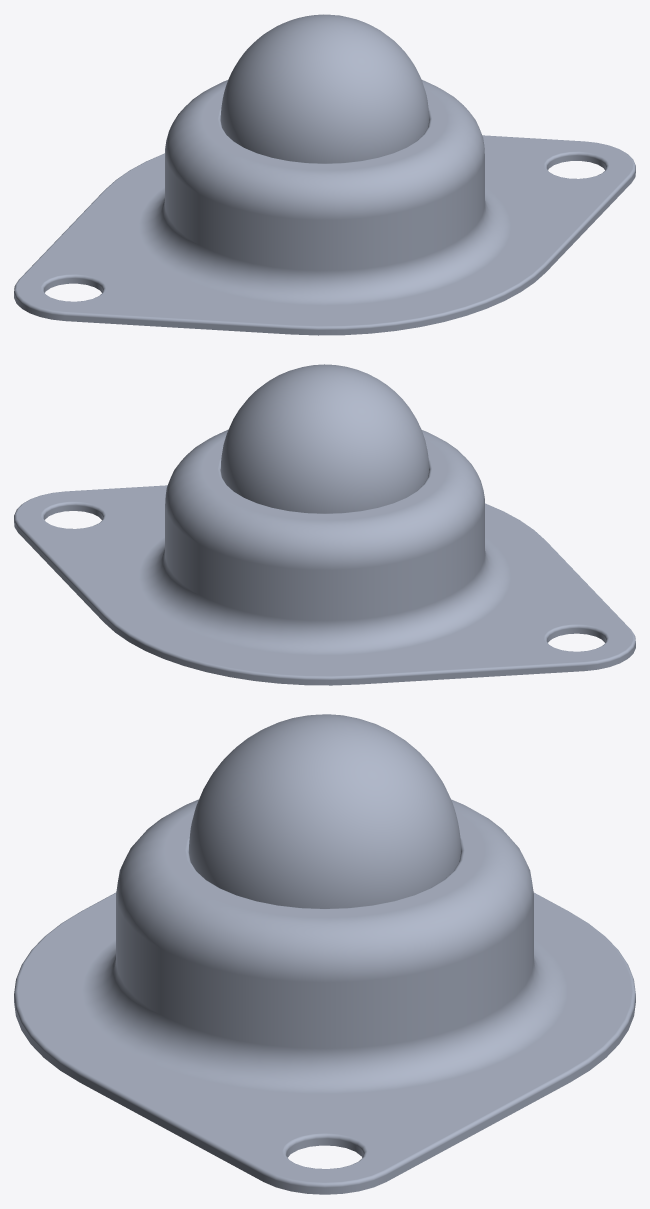
File: caster_wheel_x5.dae
The picture shows the model from 3 angles, top to bottom: view 1: azimuth 30°, elevation 25°; view 2: azimuth 150°, elevation 25°; view 3: azimuth 270°, elevation 25°; orthographic projection. The views are drawn at different scales.
Parts seen in each view (by area): view 1: Wheels_Body, Body1; view 2: Wheels_Body, Body1; view 3: Wheels_Body, Body1.
Boxes of the visible parts, box(x1,y1,x2,y2) form: Wheels_Body: box(14, 80, 635, 335); Body1: box(220, 14, 429, 163); Wheels_Body: box(14, 429, 635, 685); Body1: box(220, 364, 429, 513); Wheels_Body: box(14, 799, 635, 1194); Body1: box(189, 714, 460, 908).
Size of the model in its own units: 0.1356 by 0.0923 by 0.045.
